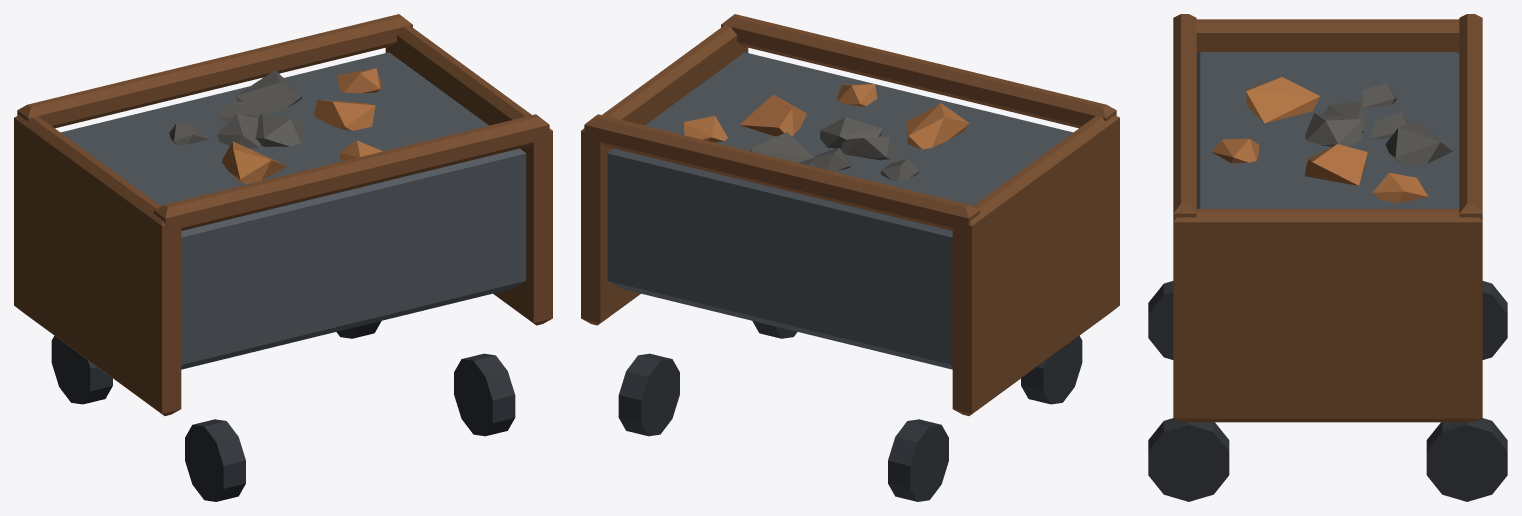
Rendered from decor_1.fbx.
The picture shows the model from 3 angles, left to right: view 1: azimuth 30°, elevation 25°; view 2: azimuth 150°, elevation 25°; view 3: azimuth 270°, elevation 25°; orthographic projection. The views are drawn at different scales.
Visible parts, largest first — view 1: decor_1; view 2: decor_1; view 3: decor_1.
Boxes of the visible parts, bbox=[...] form: decor_1: bbox=[14, 14, 552, 501]; decor_1: bbox=[581, 14, 1119, 501]; decor_1: bbox=[1148, 14, 1507, 501].
Bounding box in the file's own units: 1.22 × 0.91 × 0.9292.
